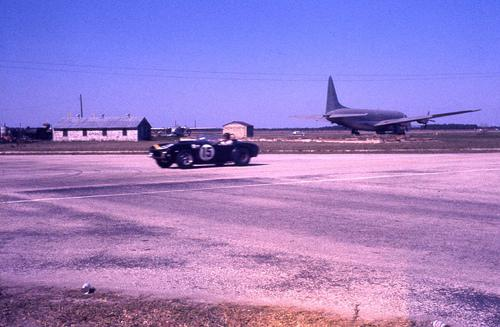Airplane: (290, 77, 481, 136)
